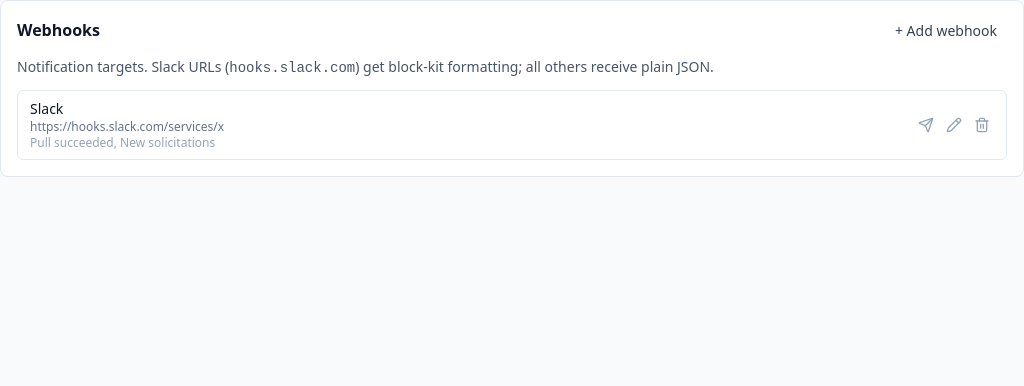
Test: WebhookSettings › edits a webhook
Step 1. Click the button named "Edit webhook Slack" → [954, 125], box [942,113,966,137]
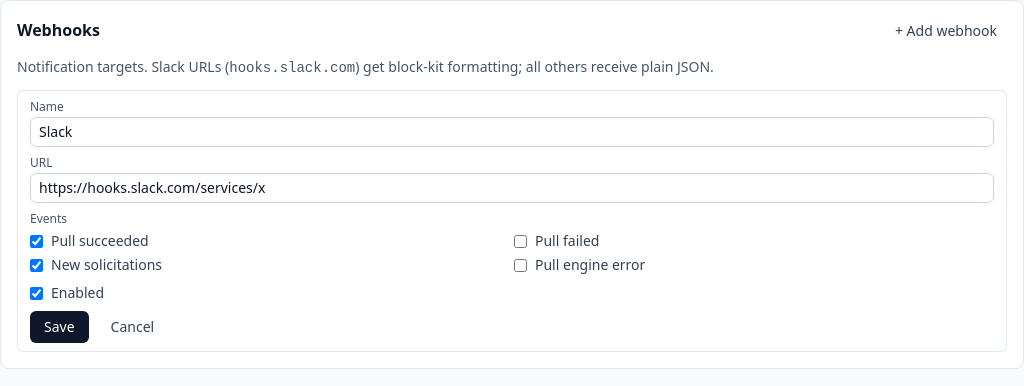
Step 2. Replace the text in the field labelled "Name" with "Slack prod" → [512, 132], box [30,117,994,147]
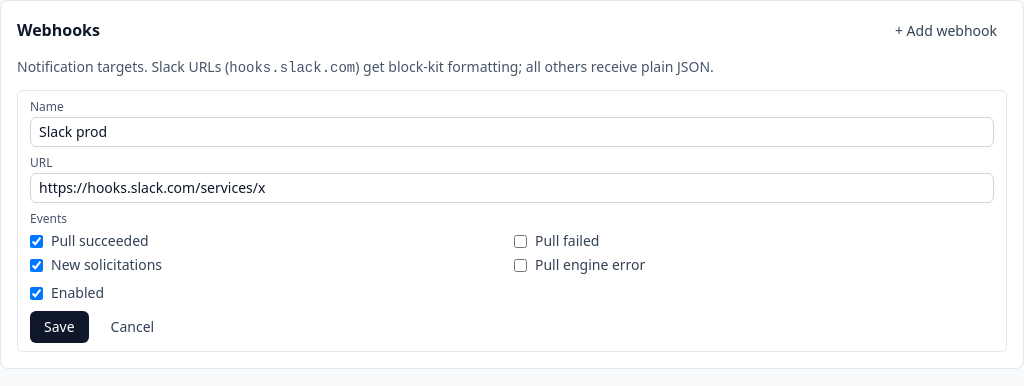
Step 3. Click the button "Save" → [59, 327], box [30,311,89,343]
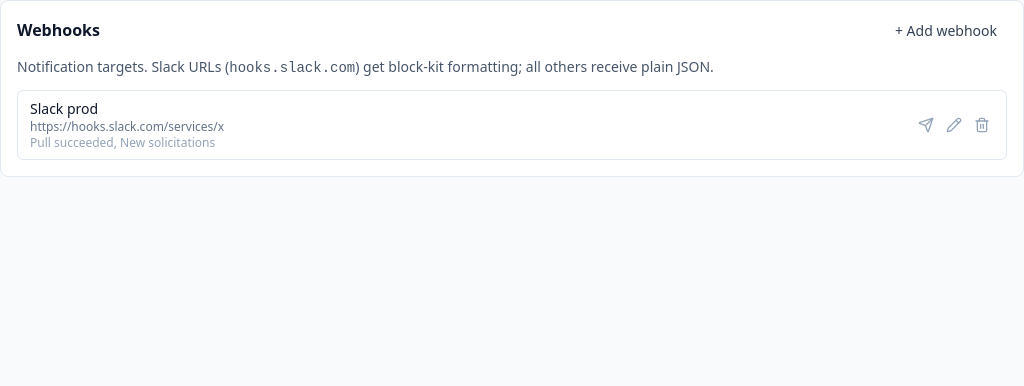
Now the text "Slack prod" is shown, box [30,99,98,118]
